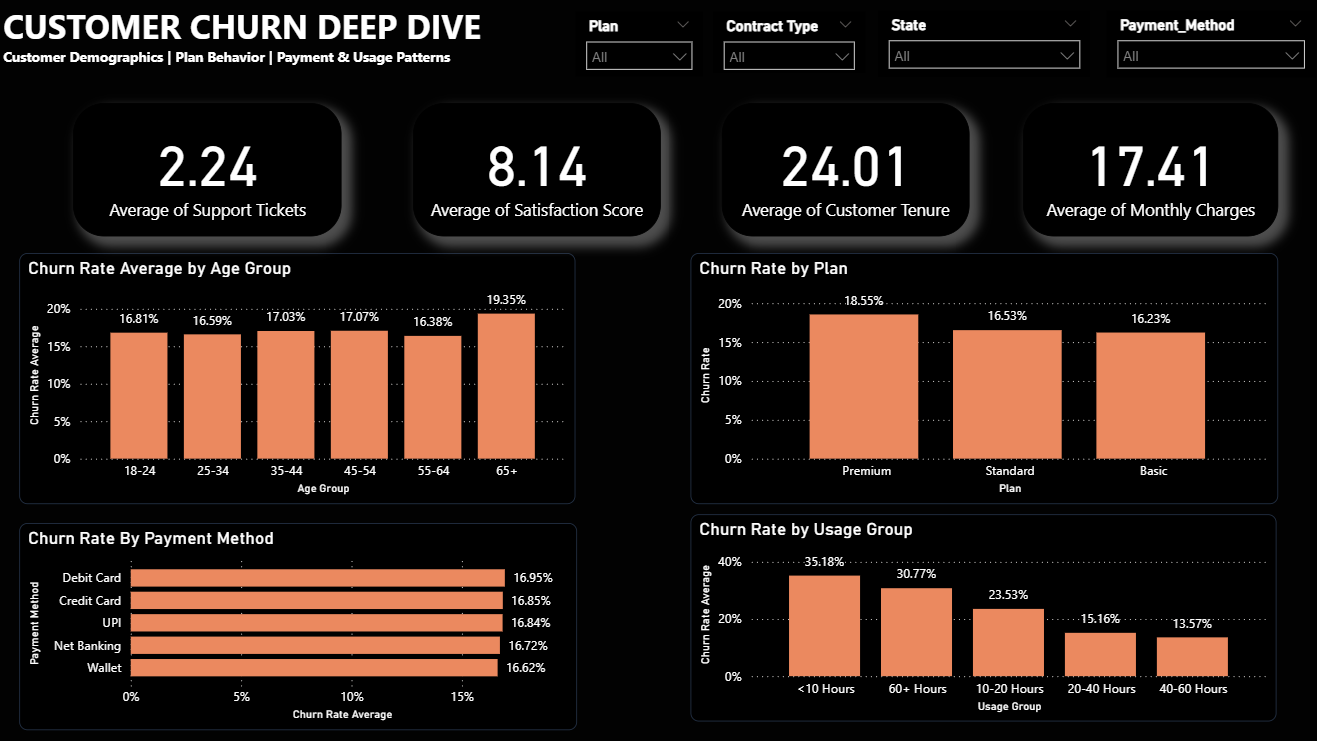

This screenshot's page, from the dashboard's own definition file:
{"tool":"powerbi","page":{"name":"Customer Churn Deep Dive","canvas":[1280,720],"ordinal":1},"visuals":[{"type":"card","fields":{"Values":["Avg(customer_churn_analysis.Tenure_Months)"]},"box":[698.5,101.3,238.9,129.1],"z":0},{"type":"card","fields":{"Values":["Avg(customer_churn_analysis.Monthly Charges)"]},"box":[989.3,101.3,246.1,129.1],"z":1000},{"type":"clusteredColumnChart","title":"Churn Rate Average by Age Group","fields":{"Y":["Avg(customer_churn_analysis.Churn_Flag)"],"Category":["customer_churn_analysis.Age_Group"]},"box":[20.5,246.1,536.9,242.5],"z":2000},{"type":"clusteredColumnChart","title":"Churn Rate by Plan","fields":{"Category":["customer_churn_analysis.Plan"],"Y":["Avg(customer_churn_analysis.Churn_Flag)"]},"box":[668.4,246.1,567,242.5],"z":3000},{"type":"clusteredBarChart","title":"Churn Rate By Payment Method","fields":{"Y":["Avg(customer_churn_analysis.Churn_Flag)"],"Category":["customer_churn_analysis.Payment_Method"]},"box":[20.5,506.7,538.1,200.3],"z":4000},{"type":"clusteredColumnChart","title":"Churn Rate by Usage Group","fields":{"Category":["customer_churn_analysis.Usage_Group"],"Y":["Avg(customer_churn_analysis.Churn_Flag)"]},"box":[668.4,498.3,565.8,200.3],"z":5000},{"type":"textbox","box":[0,0,536.8,72.1],"z":5001},{"type":"slicer","fields":{"Values":["customer_churn_analysis.Contract_Type"]},"box":[690.1,13.3,147.2,59.1],"z":5002},{"type":"slicer","fields":{"Values":["customer_churn_analysis.Plan"]},"box":[557.4,13.3,123.1,62.7],"z":5003},{"type":"slicer","fields":{"Values":["customer_churn_analysis.State"]},"box":[849.3,12.1,205.1,63.9],"z":5004},{"type":"slicer","fields":{"Values":["customer_churn_analysis.Payment_Method"]},"box":[1070.1,12.1,201.5,65.1],"z":5005},{"type":"card","fields":{"Values":["Avg(customer_churn_analysis.Satisfaction_Score)"]},"box":[400.5,101.3,238.9,129.1],"z":5006},{"type":"card","fields":{"Values":["Avg(customer_churn_analysis.Support_Tickets)"]},"box":[72.4,101.3,259.4,129.1],"z":5007}]}

Visuals, with their boxes in screenshot pixels (x1, y1, x2, y2), scaled from the page's 1280x720 canvas onto the 1317x741 screenshot:
card - Avg(customer_churn_analysis.Tenure_Months): left=719, top=104, right=964, bottom=237
card - Avg(customer_churn_analysis.Monthly Charges): left=1018, top=104, right=1271, bottom=237
"Churn Rate Average by Age Group" clusteredColumnChart: left=21, top=253, right=574, bottom=503
"Churn Rate by Plan" clusteredColumnChart: left=688, top=253, right=1271, bottom=503
"Churn Rate By Payment Method" clusteredBarChart: left=21, top=521, right=575, bottom=728
"Churn Rate by Usage Group" clusteredColumnChart: left=688, top=513, right=1270, bottom=719
textbox: left=0, top=0, right=552, bottom=74
slicer - customer_churn_analysis.Contract_Type: left=710, top=14, right=862, bottom=75
slicer - customer_churn_analysis.Plan: left=574, top=14, right=700, bottom=78
slicer - customer_churn_analysis.State: left=874, top=12, right=1085, bottom=78
slicer - customer_churn_analysis.Payment_Method: left=1101, top=12, right=1308, bottom=79
card - Avg(customer_churn_analysis.Satisfaction_Score): left=412, top=104, right=658, bottom=237
card - Avg(customer_churn_analysis.Support_Tickets): left=74, top=104, right=341, bottom=237
